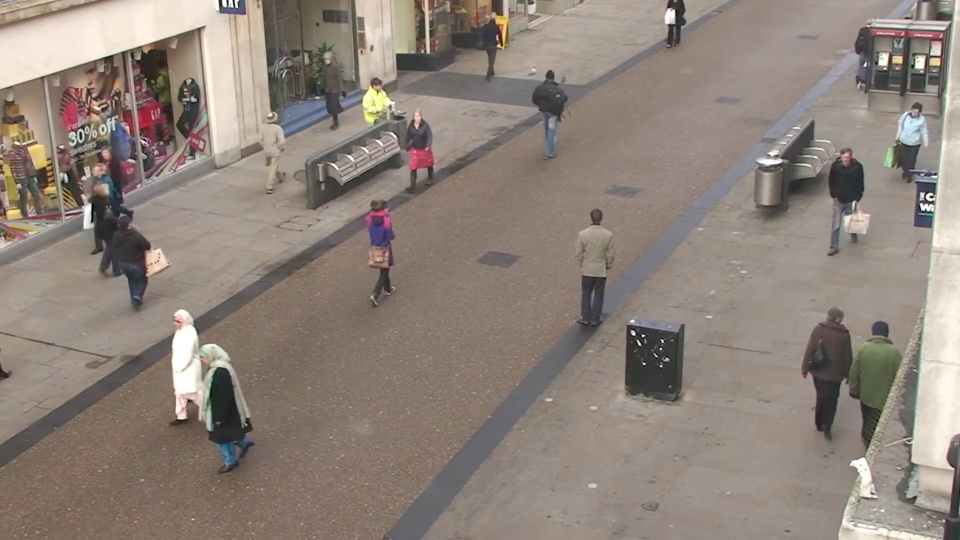pedestrian: (175, 337, 235, 488), (846, 305, 904, 453), (147, 302, 205, 444), (810, 292, 865, 436), (114, 203, 163, 319), (90, 176, 138, 285), (73, 159, 121, 264), (366, 184, 407, 299), (578, 204, 616, 324), (84, 142, 129, 243), (820, 146, 862, 251), (886, 103, 930, 199), (261, 104, 295, 195), (397, 104, 429, 197), (365, 75, 395, 159), (851, 15, 884, 88), (539, 67, 567, 149), (310, 55, 339, 133), (484, 7, 508, 72)
